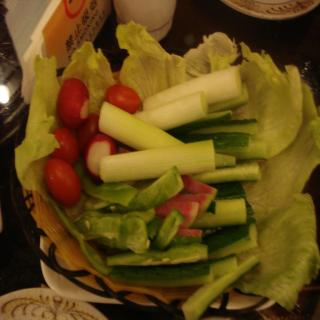tomato: (42, 154, 80, 206), (57, 76, 91, 128), (83, 133, 117, 177), (71, 110, 100, 150), (106, 82, 142, 112), (50, 126, 78, 164)
